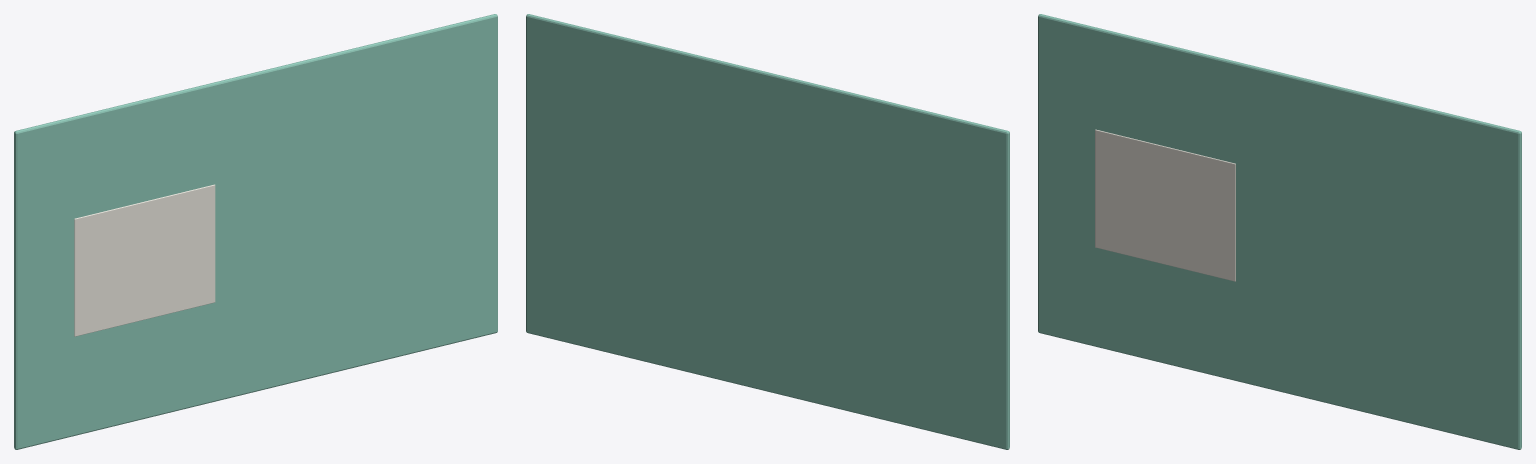
Rendered from TransitCard_blockout.glb.
3 views of the same model, side by side, from view 1: azimuth 30°, elevation 25°; view 2: azimuth 150°, elevation 25°; view 3: azimuth 330°, elevation 25° (orthographic).
Visible parts, largest first — view 1: PRP04_TransitCard_Card_L0, PRP04_TransitCard_Graphic_L0; view 2: PRP04_TransitCard_Card_L0; view 3: PRP04_TransitCard_Card_L0, PRP04_TransitCard_Graphic_L0.
Boxes of the visible parts, left/top/right/bottom form: PRP04_TransitCard_Card_L0: left=14, top=14, right=497, bottom=449; PRP04_TransitCard_Graphic_L0: left=74, top=184, right=215, bottom=336; PRP04_TransitCard_Card_L0: left=526, top=14, right=1009, bottom=449; PRP04_TransitCard_Card_L0: left=1038, top=14, right=1521, bottom=449; PRP04_TransitCard_Graphic_L0: left=1095, top=129, right=1235, bottom=281.
Size of the model in its own units: 0.0856 by 0.054 by 0.00098.
